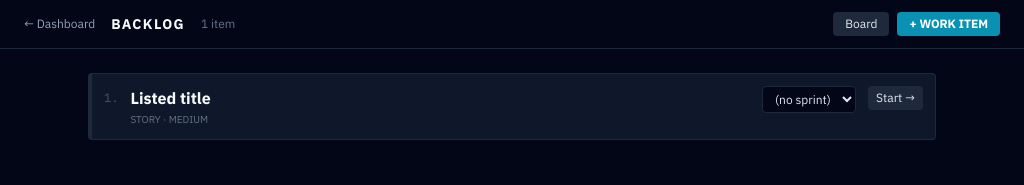
Backlog opening an item › reports an item deleted elsewhere
Click the text "Listed title". click: (170, 98)
box: top-left (130, 88), bottom-right (211, 108)
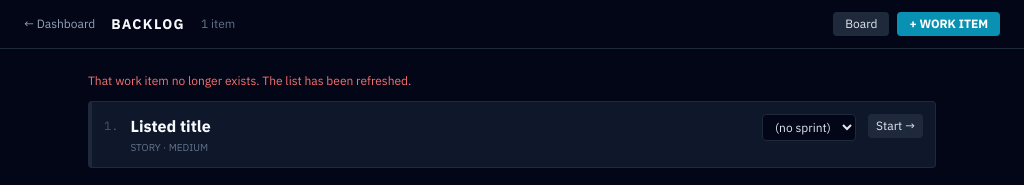
Check: the message reads "That work item no longer exists. The list has been refreshed.", box top-left (88, 73), bottom-right (411, 88)
